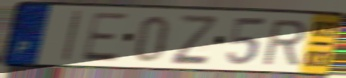0: (133, 14, 173, 64)
5: (224, 16, 270, 67)
E: (78, 10, 130, 63)
I: (59, 9, 84, 64)
R: (260, 18, 309, 67)
Z: (170, 12, 219, 66)
